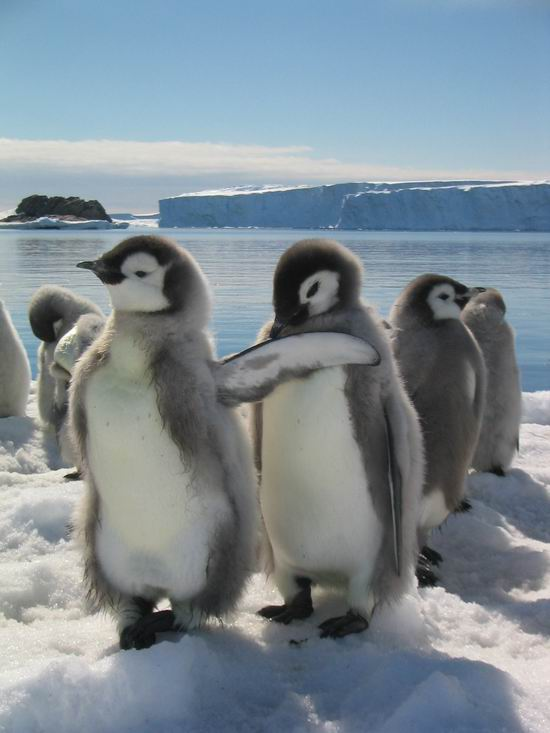penguin: (73, 236, 266, 654), (265, 237, 422, 641)
